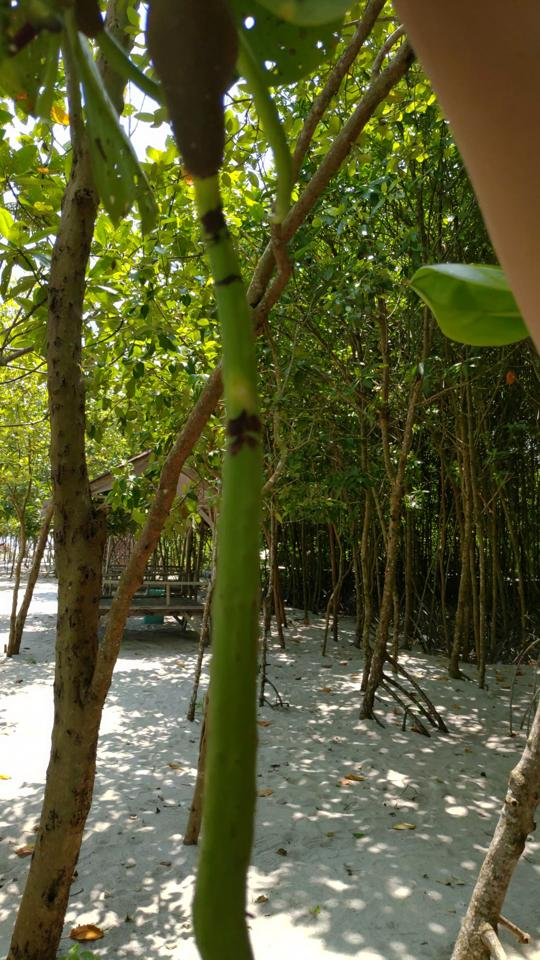setengah matang: (137, 4, 272, 958)
